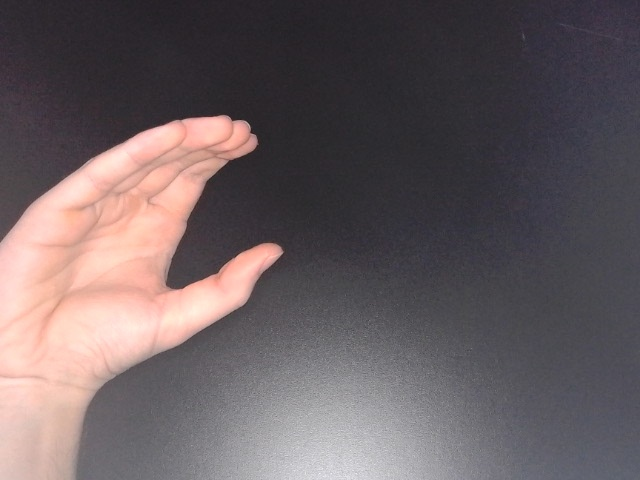c: (1, 110, 288, 411)
